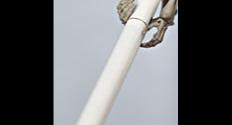Cigarette: (63, 0, 171, 125)
